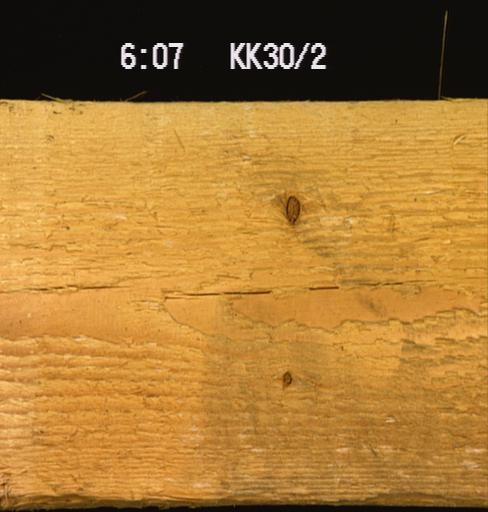dry_knot: (283, 194, 301, 228)
split: (169, 286, 270, 296), (64, 279, 130, 291), (306, 282, 337, 291)
wave: (0, 491, 138, 511)
